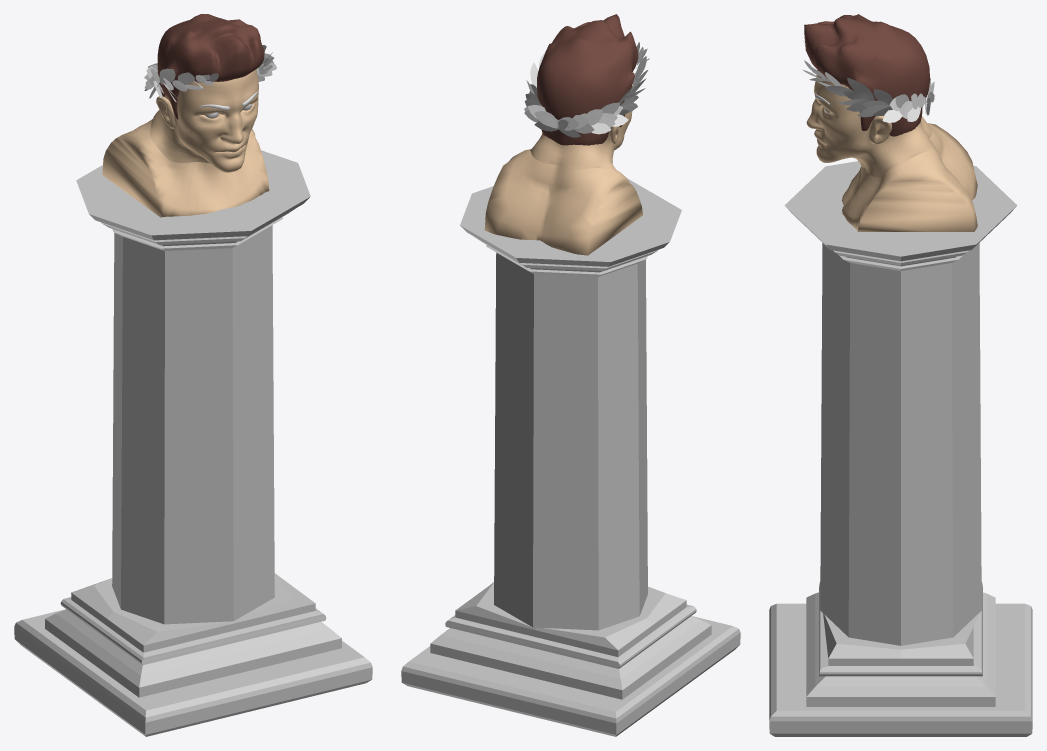
File: BusteWish.fbx
The picture shows the model from 3 angles, left to right: view 1: azimuth 30°, elevation 25°; view 2: azimuth 150°, elevation 25°; view 3: azimuth 270°, elevation 25°; orthographic projection. The views are drawn at different scales.
Parts seen in each view (by area): view 1: Support1.001, Body.High_Full.002, Hair_High.001, Laurel_Leaf.002; view 2: Support1.001, Body.High_Full.002, Hair_High.001, Laurel_Leaf.002; view 3: Support1.001, Body.High_Full.002, Hair_High.001, Laurel_Leaf.002.
Boxes of the visible parts, x1,y1,x2,y2 form: Support1.001: (14, 150, 372, 736); Body.High_Full.002: (102, 69, 269, 217); Hair_High.001: (157, 14, 264, 119); Laurel_Leaf.002: (144, 45, 276, 102); Support1.001: (401, 178, 740, 736); Body.High_Full.002: (484, 86, 642, 255); Hair_High.001: (537, 14, 638, 145); Laurel_Leaf.002: (524, 42, 649, 137); Support1.001: (769, 161, 1032, 736); Body.High_Full.002: (806, 70, 977, 231); Hair_High.001: (804, 14, 930, 136); Laurel_Leaf.002: (802, 36, 934, 122).
Bounding box in the file's own units: 50 × 139 × 50.
